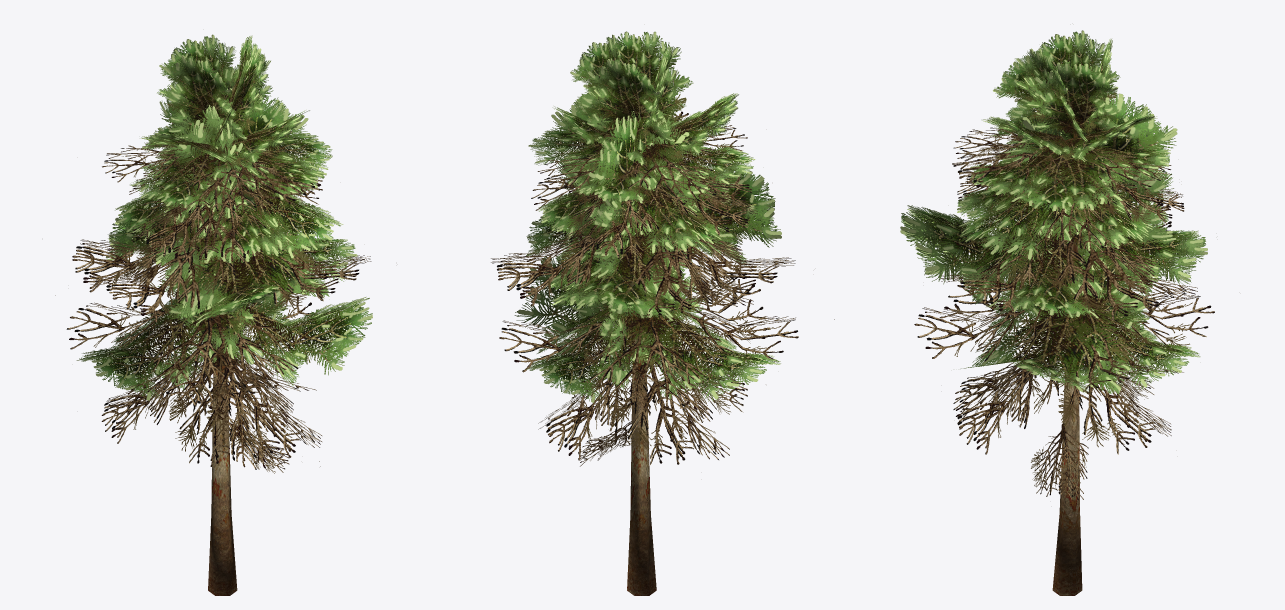
The model's file is flora_tree_pine_black_v3.glb.
3 views of the same model, side by side, from view 1: azimuth 30°, elevation 25°; view 2: azimuth 150°, elevation 25°; view 3: azimuth 270°, elevation 25° (orthographic).
Visible parts, largest first — view 1: flora_tree_pine_black_v3_part0, flora_tree_pine_black_v3_part1; view 2: flora_tree_pine_black_v3_part0, flora_tree_pine_black_v3_part1; view 3: flora_tree_pine_black_v3_part0, flora_tree_pine_black_v3_part1.
Part boxes in pixels (left/top/right/bottom): flora_tree_pine_black_v3_part0: left=76, top=34, right=372, bottom=595; flora_tree_pine_black_v3_part1: left=55, top=140, right=371, bottom=473; flora_tree_pine_black_v3_part0: left=514, top=31, right=781, bottom=595; flora_tree_pine_black_v3_part1: left=491, top=111, right=834, bottom=466; flora_tree_pine_black_v3_part0: left=900, top=30, right=1207, bottom=595; flora_tree_pine_black_v3_part1: left=914, top=113, right=1214, bottom=500.
Size of the model in its own units: 16.65 by 26.19 by 17.
Materials: 2 (2 with a texture image).
